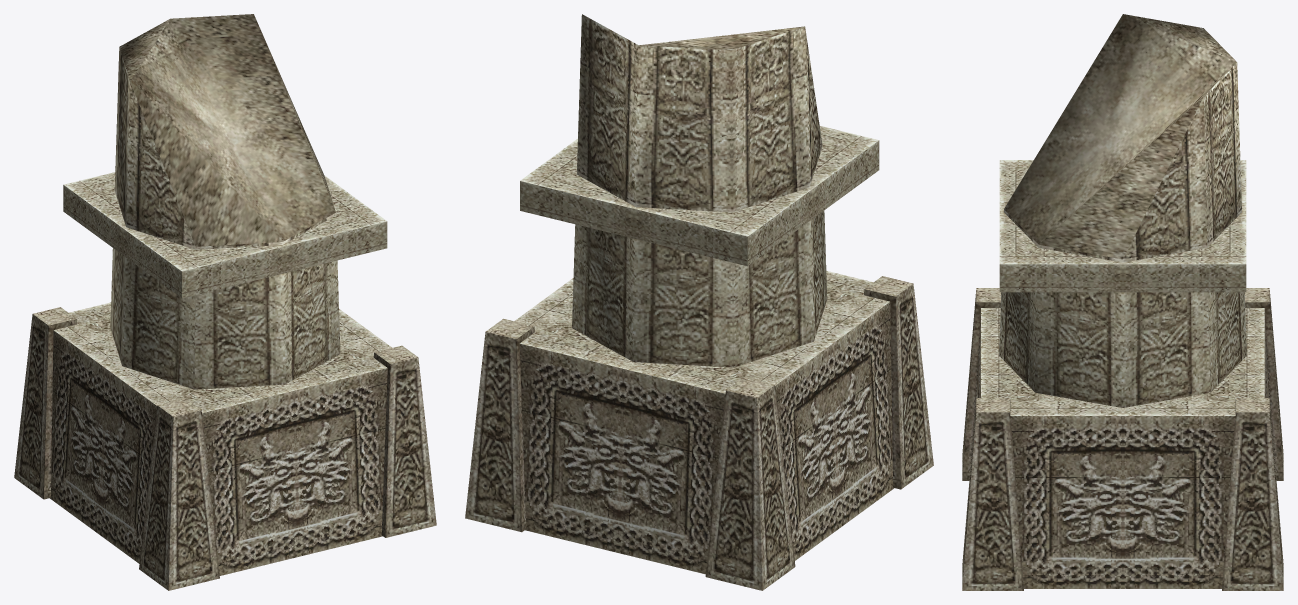
Rendered from general_obj_bigtoewr06.fbx.
3 renders of one model, left to right at view 1: azimuth 30°, elevation 25°; view 2: azimuth 150°, elevation 25°; view 3: azimuth 270°, elevation 25°, orthographic. The views are drawn at different scales.
Visible parts, largest first — view 1: Sphere01; view 2: Sphere01; view 3: Sphere01.
Part boxes in pixels (left/top/right/bottom): Sphere01: left=14, top=14, right=436, bottom=590; Sphere01: left=465, top=14, right=933, bottom=590; Sphere01: left=962, top=14, right=1283, bottom=590.
Size of the model in its own units: 5.22 by 8.26 by 5.21.
